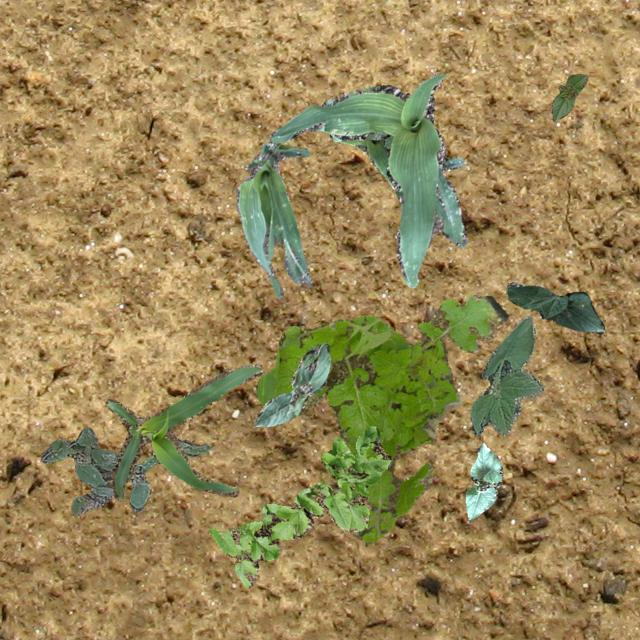crop: (268, 72, 466, 286), (104, 362, 262, 500), (322, 99, 464, 188), (236, 142, 312, 298), (469, 316, 544, 434), (252, 342, 330, 426), (504, 282, 604, 332), (464, 442, 502, 520), (550, 72, 586, 120)
weed: (255, 292, 508, 546), (208, 426, 390, 588), (40, 426, 212, 514)
